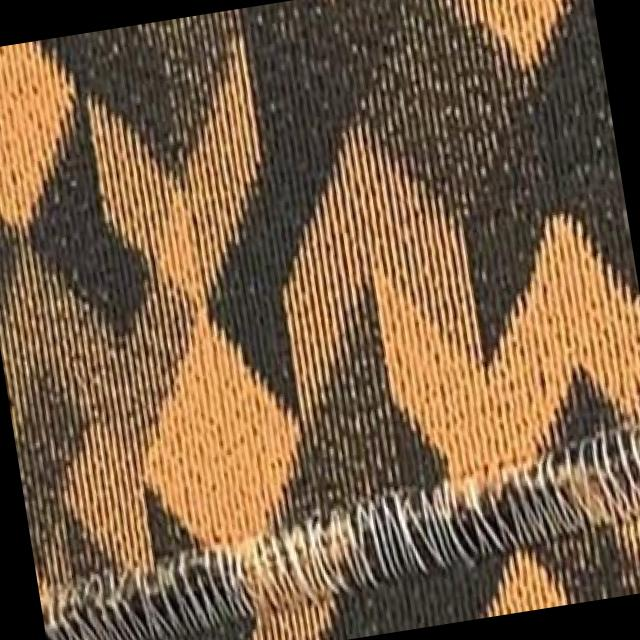gray stitch: (322, 416, 640, 599), (34, 515, 343, 640)
